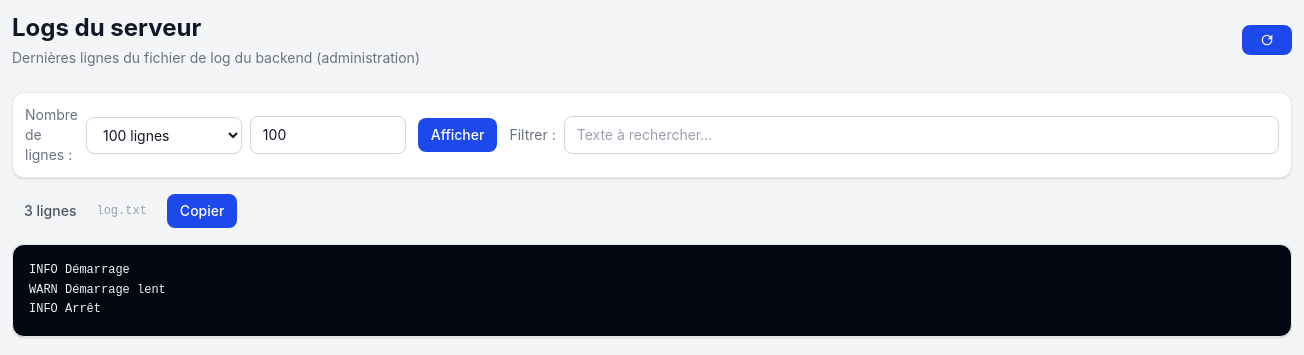
Scenario: Logs › filtre les lignes affichées
This screenshot has width=1304, height=355.
Expected: the text "INFO Démarrage WARN Démarrage lent INFO Arrêt" is shown, [29,263,166,316]
Type "warn" into the search field named "Filtrer les lignes" at (921, 135), box [564,116,1279,154]
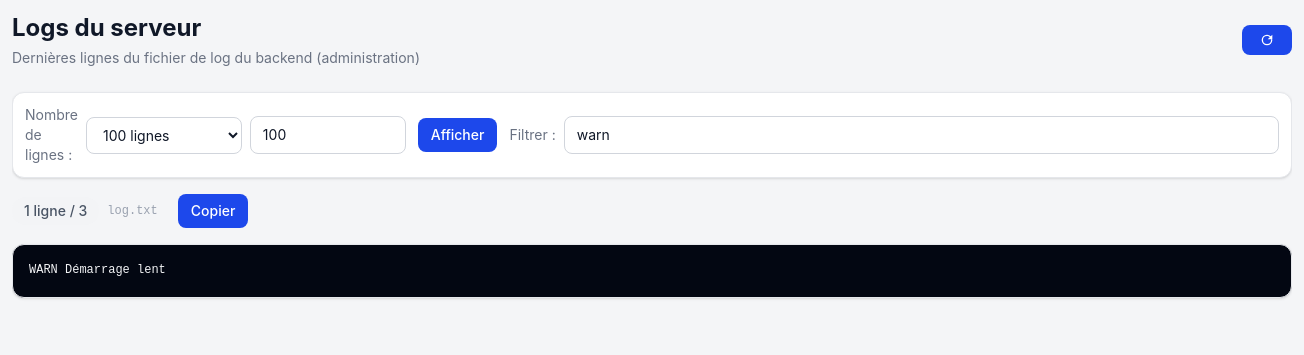
Expected: the text "WARN Démarrage lent" is shown, [29,263,166,277]
Expected: the text "INFO Arrêt" is gone
Expected: the text "1 ligne / 3" is shown, [12,197,99,225]
